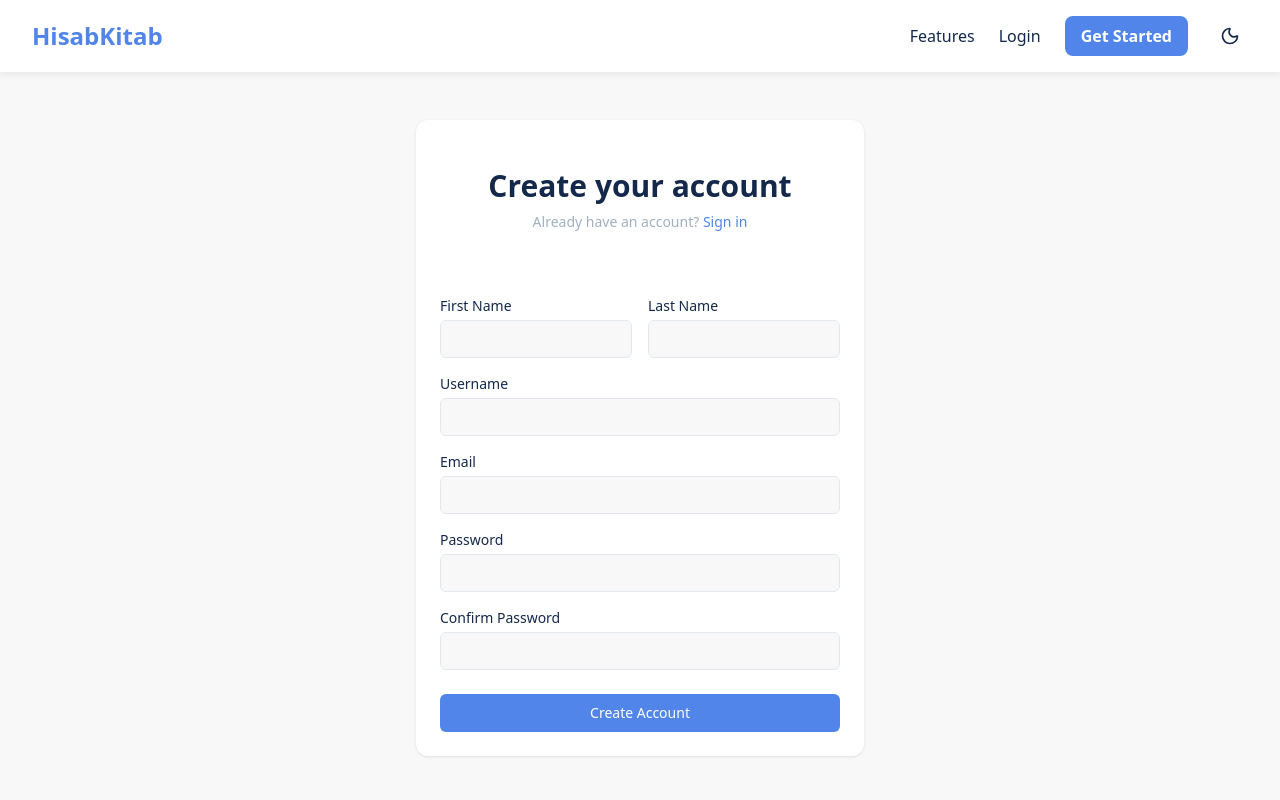
Test case: Register Page › should display a backend validation error
Type "Yours2" into the field labelled "First Name" at (536, 339), box 440,320 -> 632,358
Type "Dev" into the field labelled "Last Name" at (744, 339), box 648,320 -> 840,358
Type "yours2dev" into the field labelled "Username" at (640, 417), box 440,398 -> 840,436
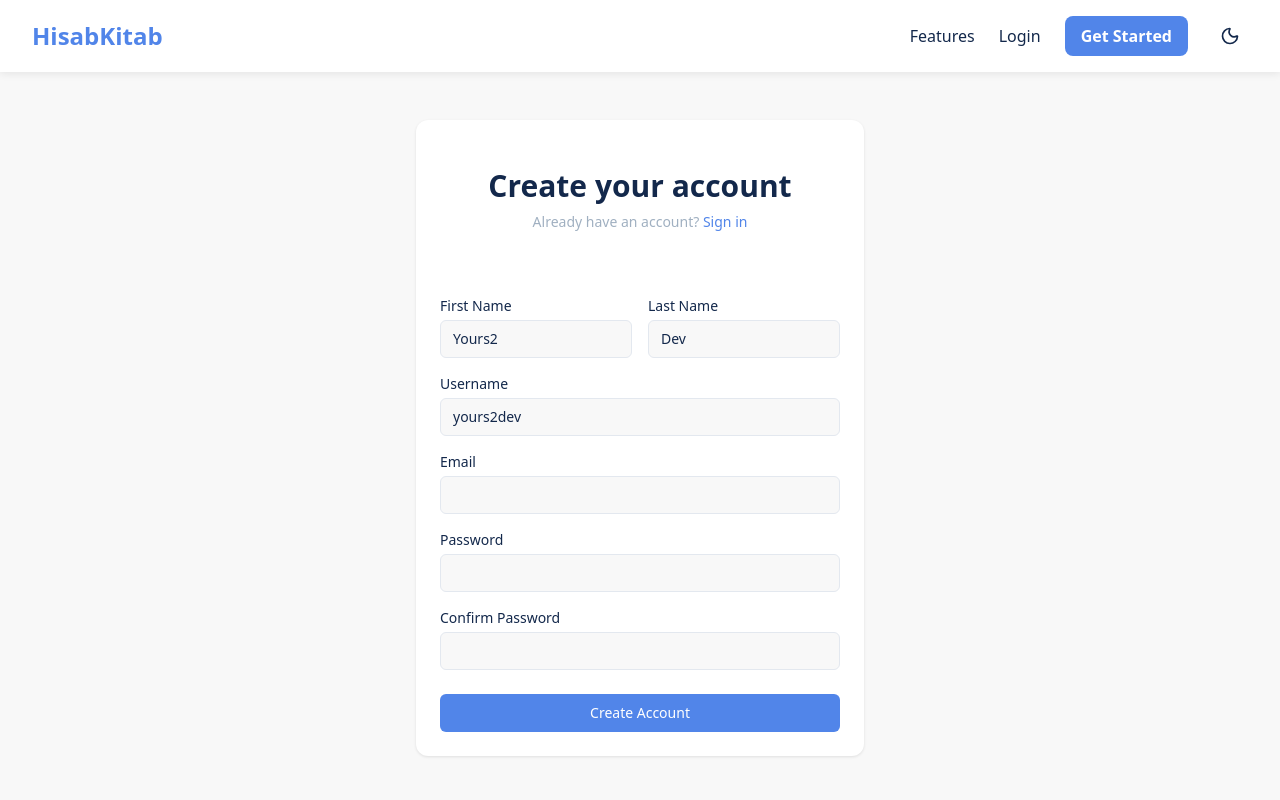
Type "yours2@hisabkitab.com" into the field labelled "Email" at (640, 495), box 440,476 -> 840,514
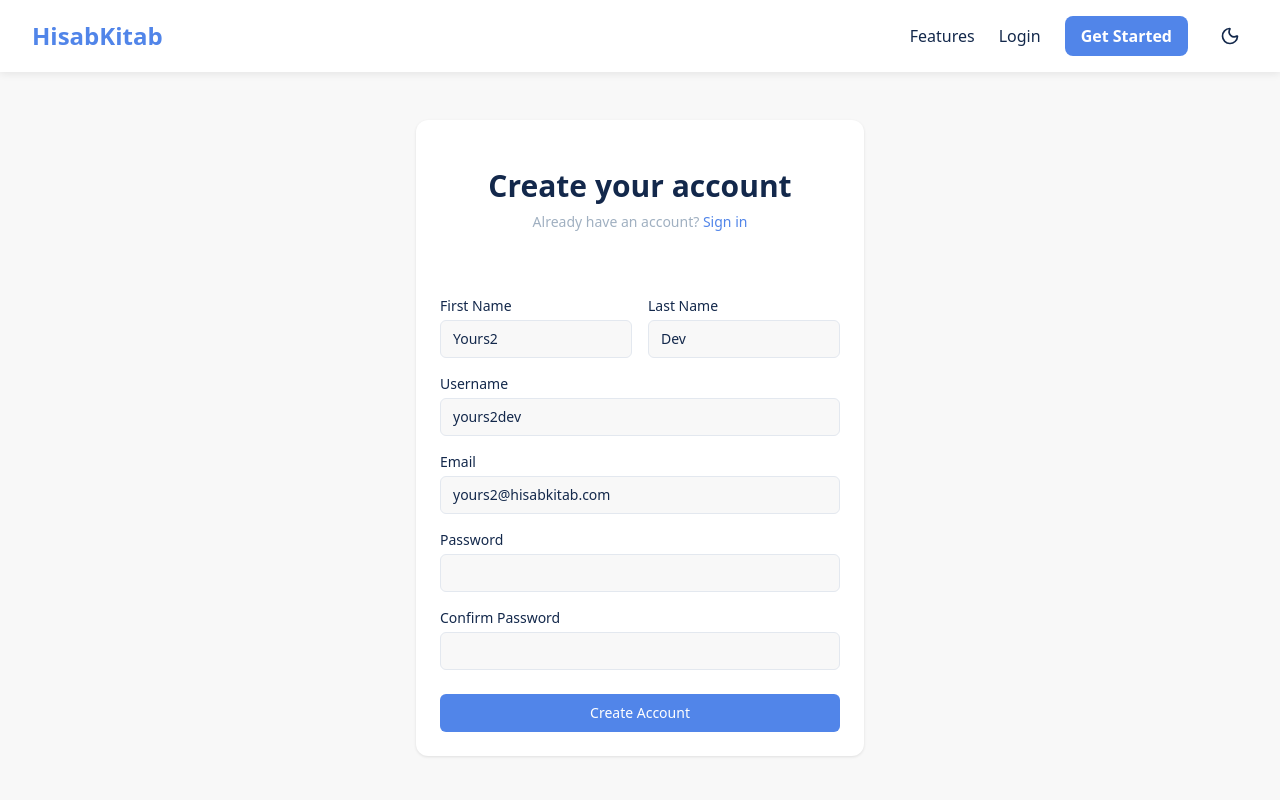
Type "password123" into the password field labelled "Password" at (640, 573), box 440,554 -> 840,592
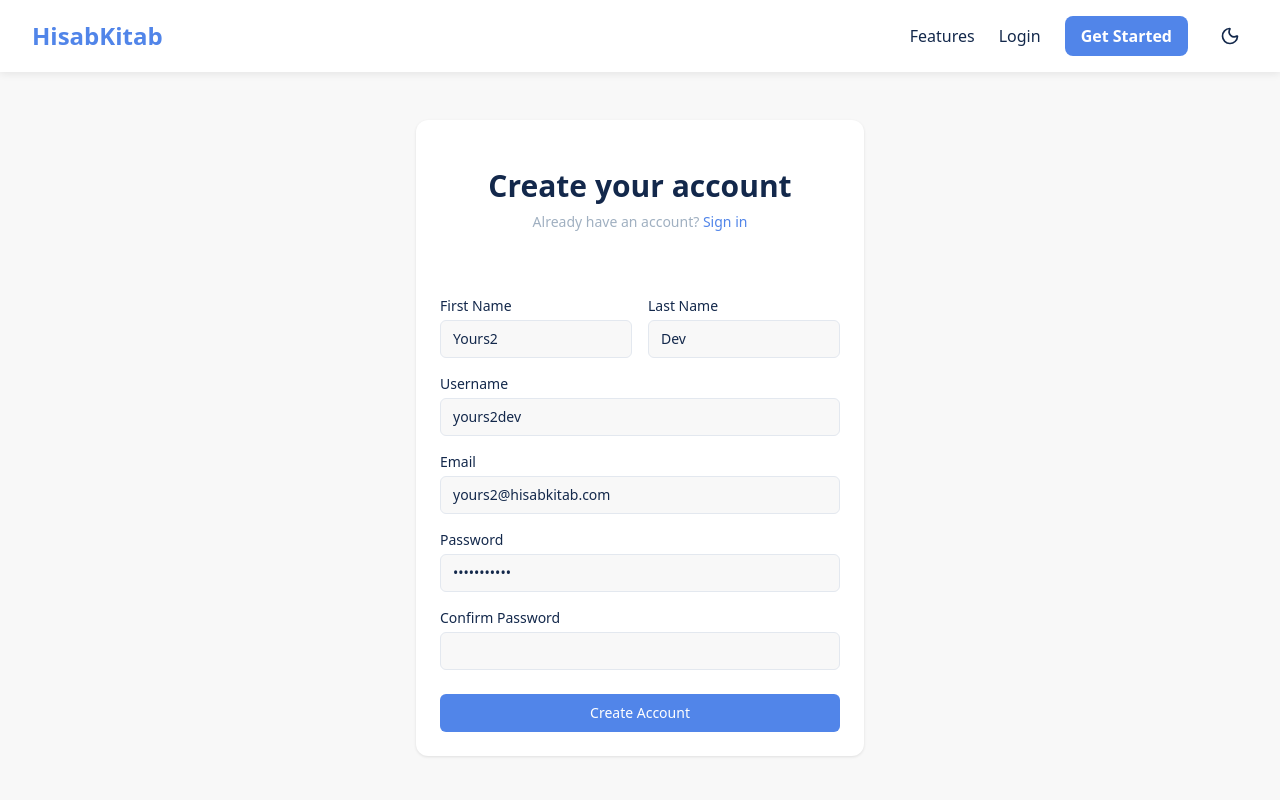
Type "password123" into the password field labelled "Confirm Password" at (640, 651), box 440,632 -> 840,670
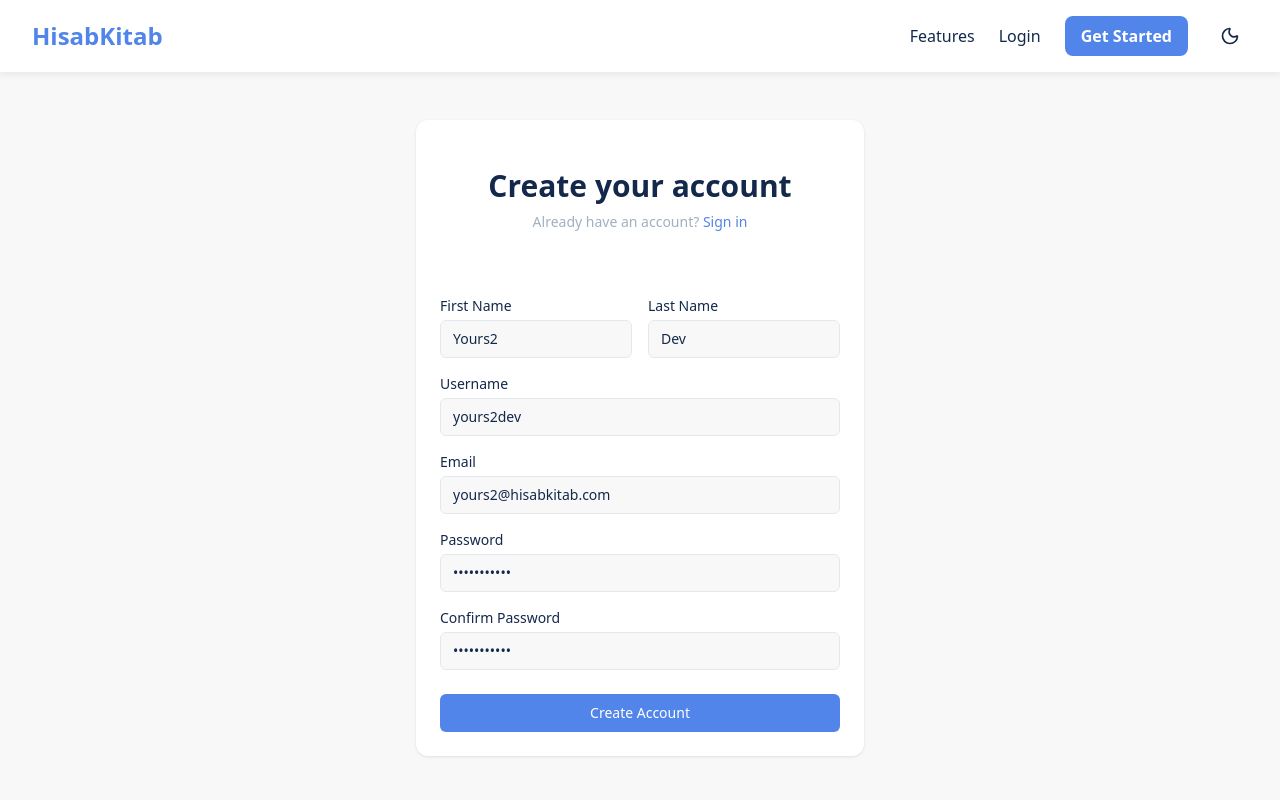
Replace the text in the field labelled "Username" with "kishandev" at (640, 417), box 440,398 -> 840,436
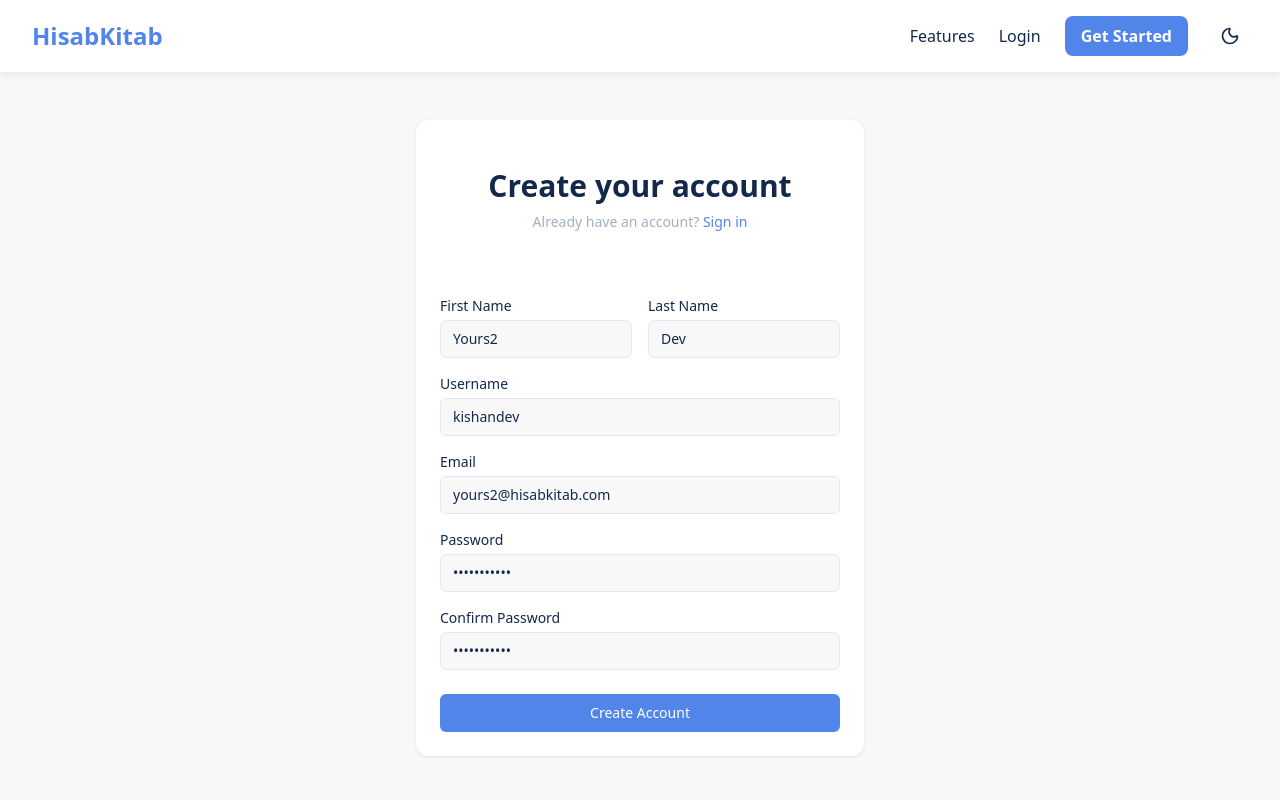
Click the button "Create Account" at (640, 713), box 440,694 -> 840,732
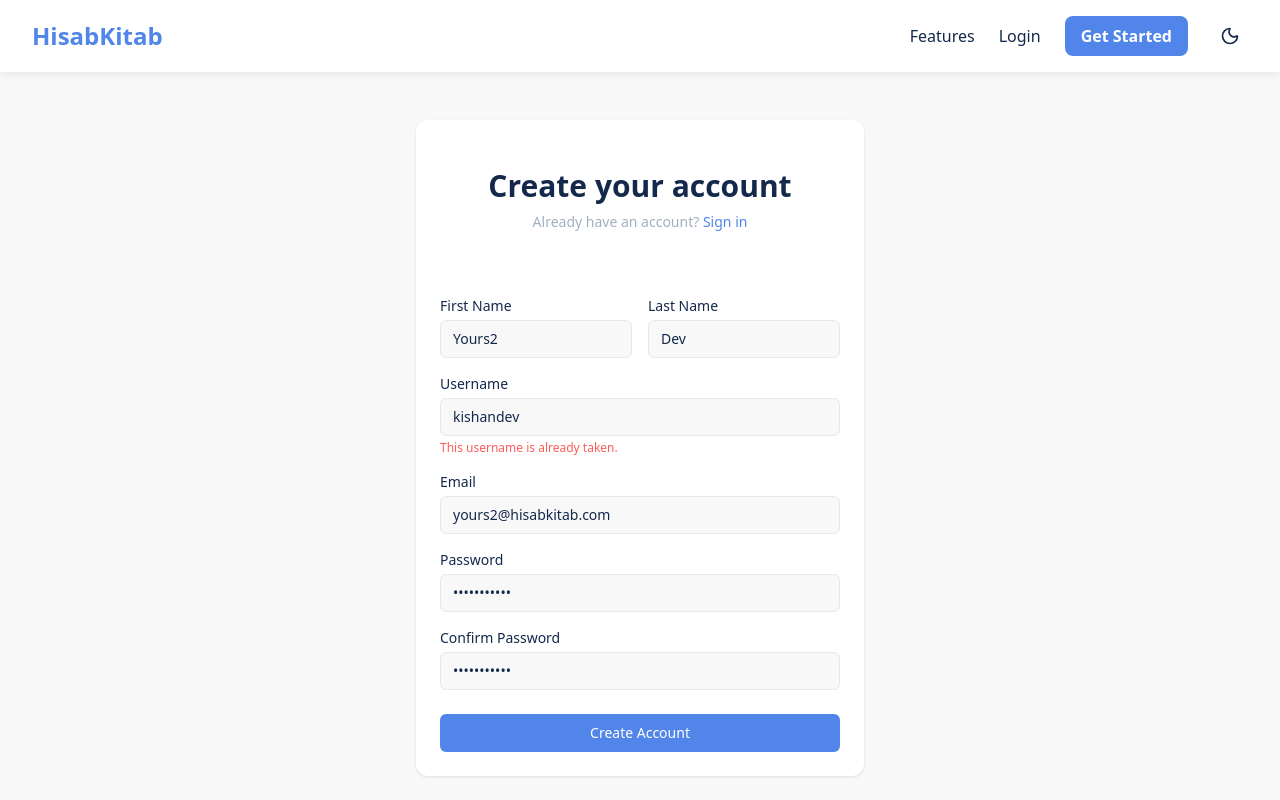
Expected: the text "This username is already taken." is shown, 440,439 -> 618,456
